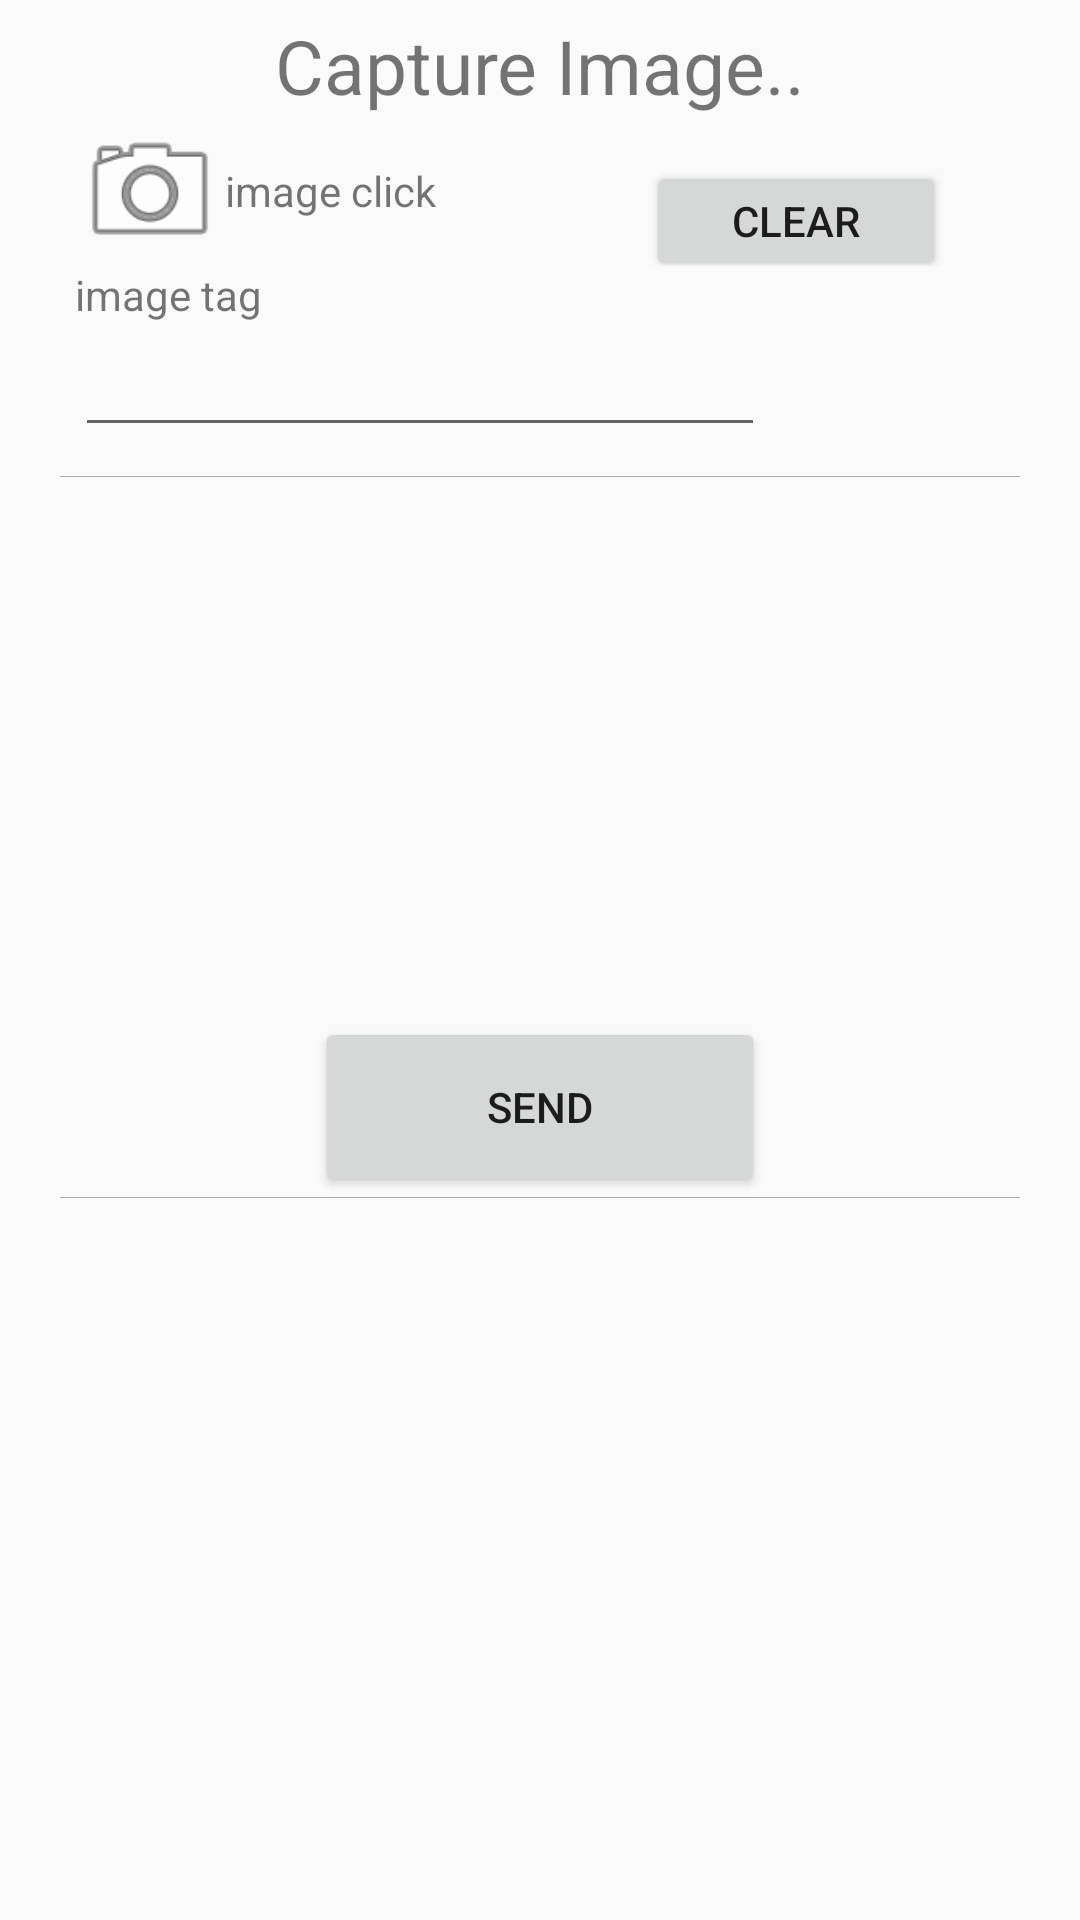

Where icons sit on this 1080 x 1920 app screen, as (x1, y1, x2, y2):
camera: (92, 142, 208, 235)
